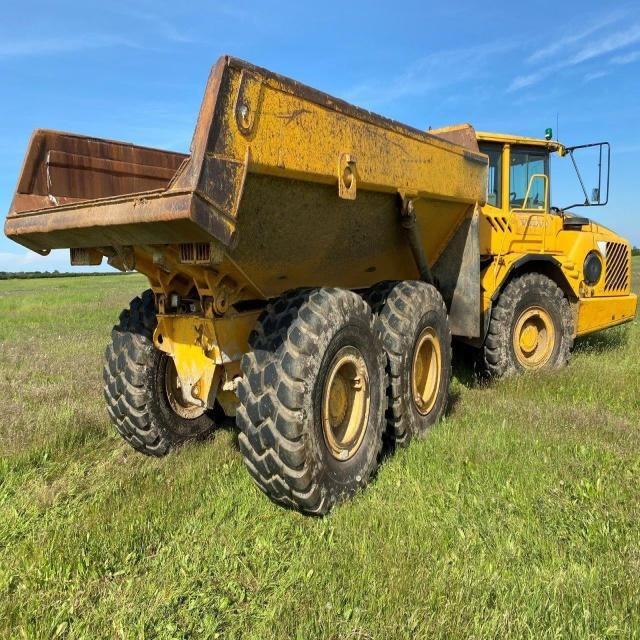dump_truck: (9, 44, 638, 521)
